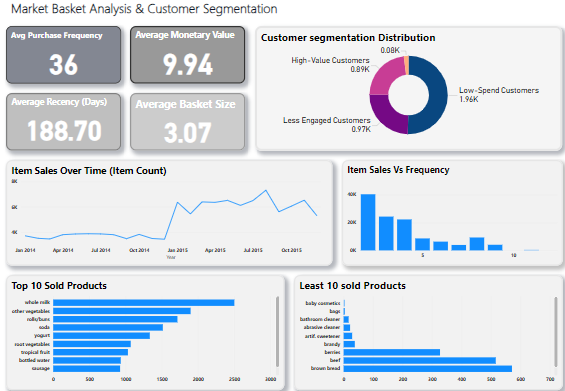

The dashboard page shown, as its layout file describes it:
{"tool":"powerbi","page":{"name":"Page 1","canvas":[1450,1000],"ordinal":0},"visuals":[{"type":"donutChart","title":"Customer segmentation Distribution","fields":{"Category":["RFM_Customer_Segmentation (1).Cluster_Label"],"Y":["CountNonNull(RFM_Customer_Segmentation (1).Cluster)"]},"box":[648,72,768,312],"z":0},{"type":"card","title":"Avg Purchase Frequency","fields":{"Values":["Max(RFM_Customer_Segmentation (1).Frequency)"]},"box":[24,72,288,144],"z":1000},{"type":"card","title":"Average Monetary Value","fields":{"Values":["Avg(RFM_Customer_Segmentation (1).Monetary)"]},"box":[336,72,288,144],"z":2000},{"type":"card","title":"Average Recency (Days)","fields":{"Values":["Avg(RFM_Customer_Segmentation (1).Recency)"]},"box":[24,240,288,144],"z":3000},{"type":"barChart","title":"Top 10 Sold Products","fields":{"Category":["Product_Counts.Product"],"Y":["Sum(Product_Counts.Count)"]},"box":[24,696,696,288],"z":4000},{"type":"barChart","title":"Least 10 sold Products","fields":{"Category":["Product_Counts.Product"],"Y":["Sum(Product_Counts.Count)"]},"box":[744,696,672,288],"z":5000},{"type":"clusteredColumnChart","title":"Item Sales Vs Frequency","fields":{"Category":["Transaction_Dataset.Number of Items"],"Y":["Sum(Transaction_Dataset.Number of Items)"]},"box":[864,408,552,264],"z":6000},{"type":"lineChart","title":"Item Sales Over Time (Item Count)","fields":{"Y":["Sum(Transaction_Dataset.Number of Items)"],"Category":["Transaction_Dataset.Date.Variation.Date Hierarchy.Year","Transaction_Dataset.Date.Variation.Date Hierarchy.Month"]},"box":[24,408,816,264],"z":7000},{"type":"card","title":"Average Basket Size","fields":{"Values":["Avg(Transaction_Dataset.Number of Items)"]},"box":[336,240,288,144],"z":8000},{"type":"textbox","box":[32,0,1088,80],"z":8001}]}

Visuals, with their boxes in screenshot pixels (x1, y1, x2, y2), scaled from the page's 1450x1000 canvas onto the 565x391 screenshot:
"Customer segmentation Distribution" donutChart: 252/28/552/150
"Avg Purchase Frequency" card: 9/28/122/84
"Average Monetary Value" card: 131/28/243/84
"Average Recency (Days)" card: 9/94/122/150
"Top 10 Sold Products" barChart: 9/272/281/385
"Least 10 sold Products" barChart: 290/272/552/385
"Item Sales Vs Frequency" clusteredColumnChart: 337/160/552/263
"Item Sales Over Time (Item Count)" lineChart: 9/160/327/263
"Average Basket Size" card: 131/94/243/150
textbox: 12/0/436/31
